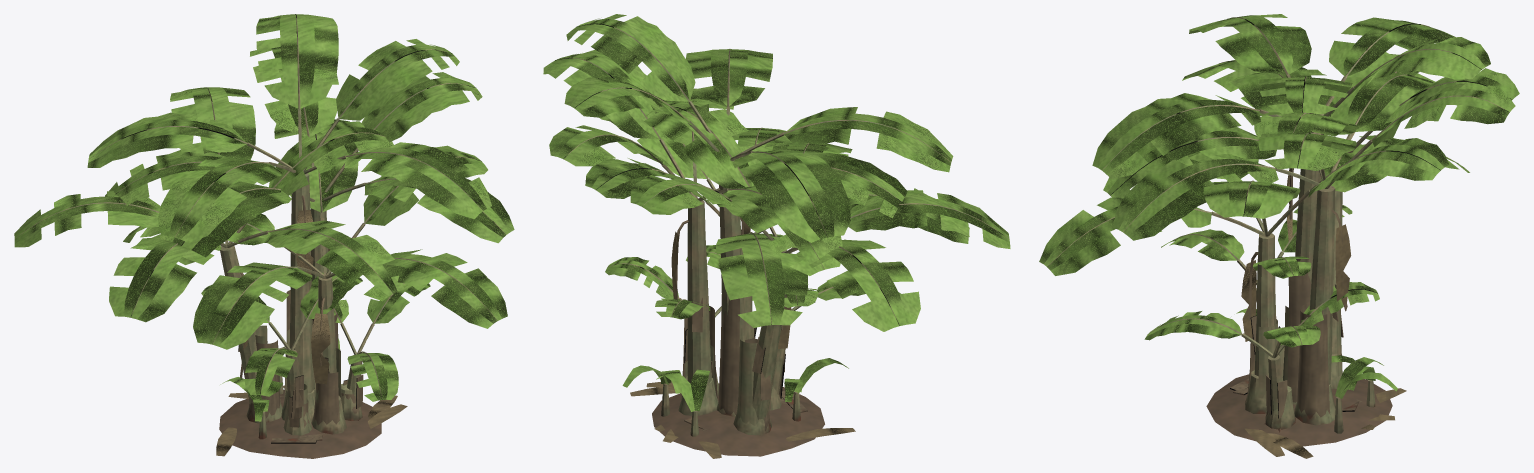
File: BananaClump.fbx
3 renders of one model, left to right at view 1: azimuth 30°, elevation 25°; view 2: azimuth 150°, elevation 25°; view 3: azimuth 270°, elevation 25°, orthographic. The views are drawn at different scales.
Parts seen in each view (by area): view 1: BananaClump, BananaClump_Base, BananaClump_B; view 2: BananaClump, BananaClump_Base, BananaClump_B; view 3: BananaClump, BananaClump_B, BananaClump_Base.
Part boxes in pixels (bbox=[...]): BananaClump: bbox=[87, 14, 507, 434]; BananaClump_Base: bbox=[14, 87, 430, 458]; BananaClump_B: bbox=[105, 47, 514, 435]; BananaClump: bbox=[564, 14, 969, 416]; BananaClump_Base: bbox=[605, 98, 1010, 458]; BananaClump_B: bbox=[543, 49, 907, 415]; BananaClump: bbox=[1039, 14, 1490, 413]; BananaClump_B: bbox=[1112, 69, 1515, 425]; BananaClump_Base: bbox=[1103, 54, 1519, 458].
Size of the model in its own units: 460 by 382 by 419.
1 material, 1 textured.
